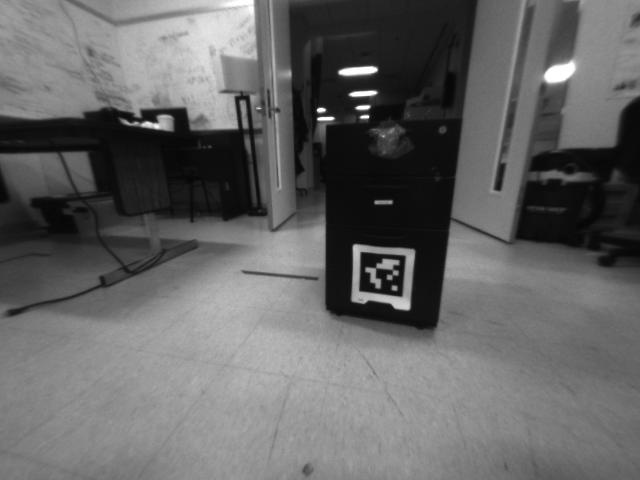handle: (368, 129, 410, 160)
